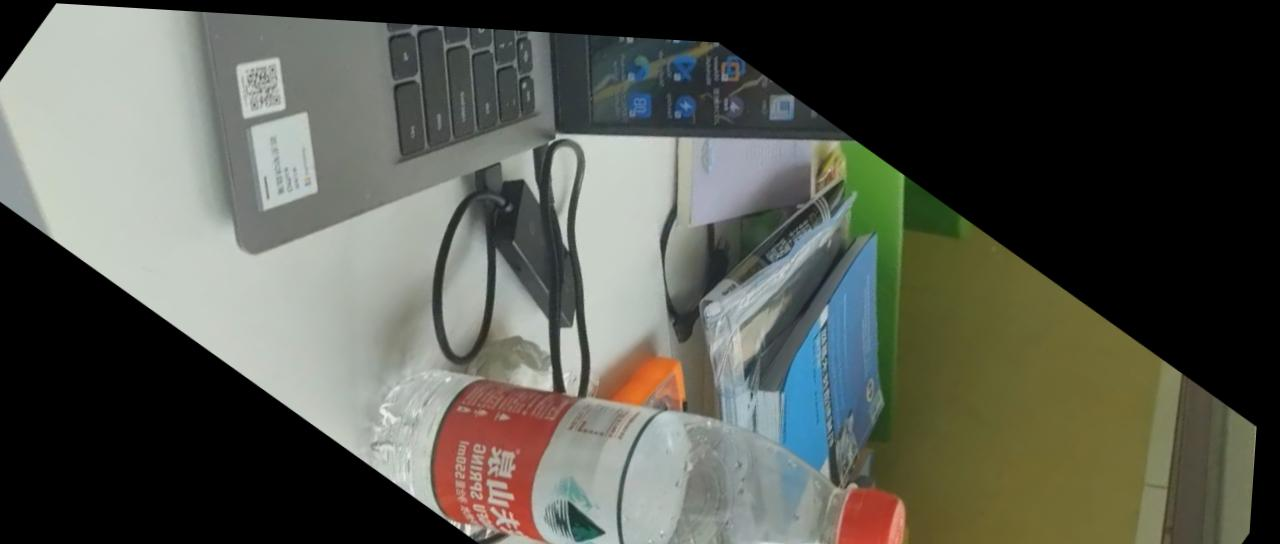plastic: (374, 188, 904, 543)
